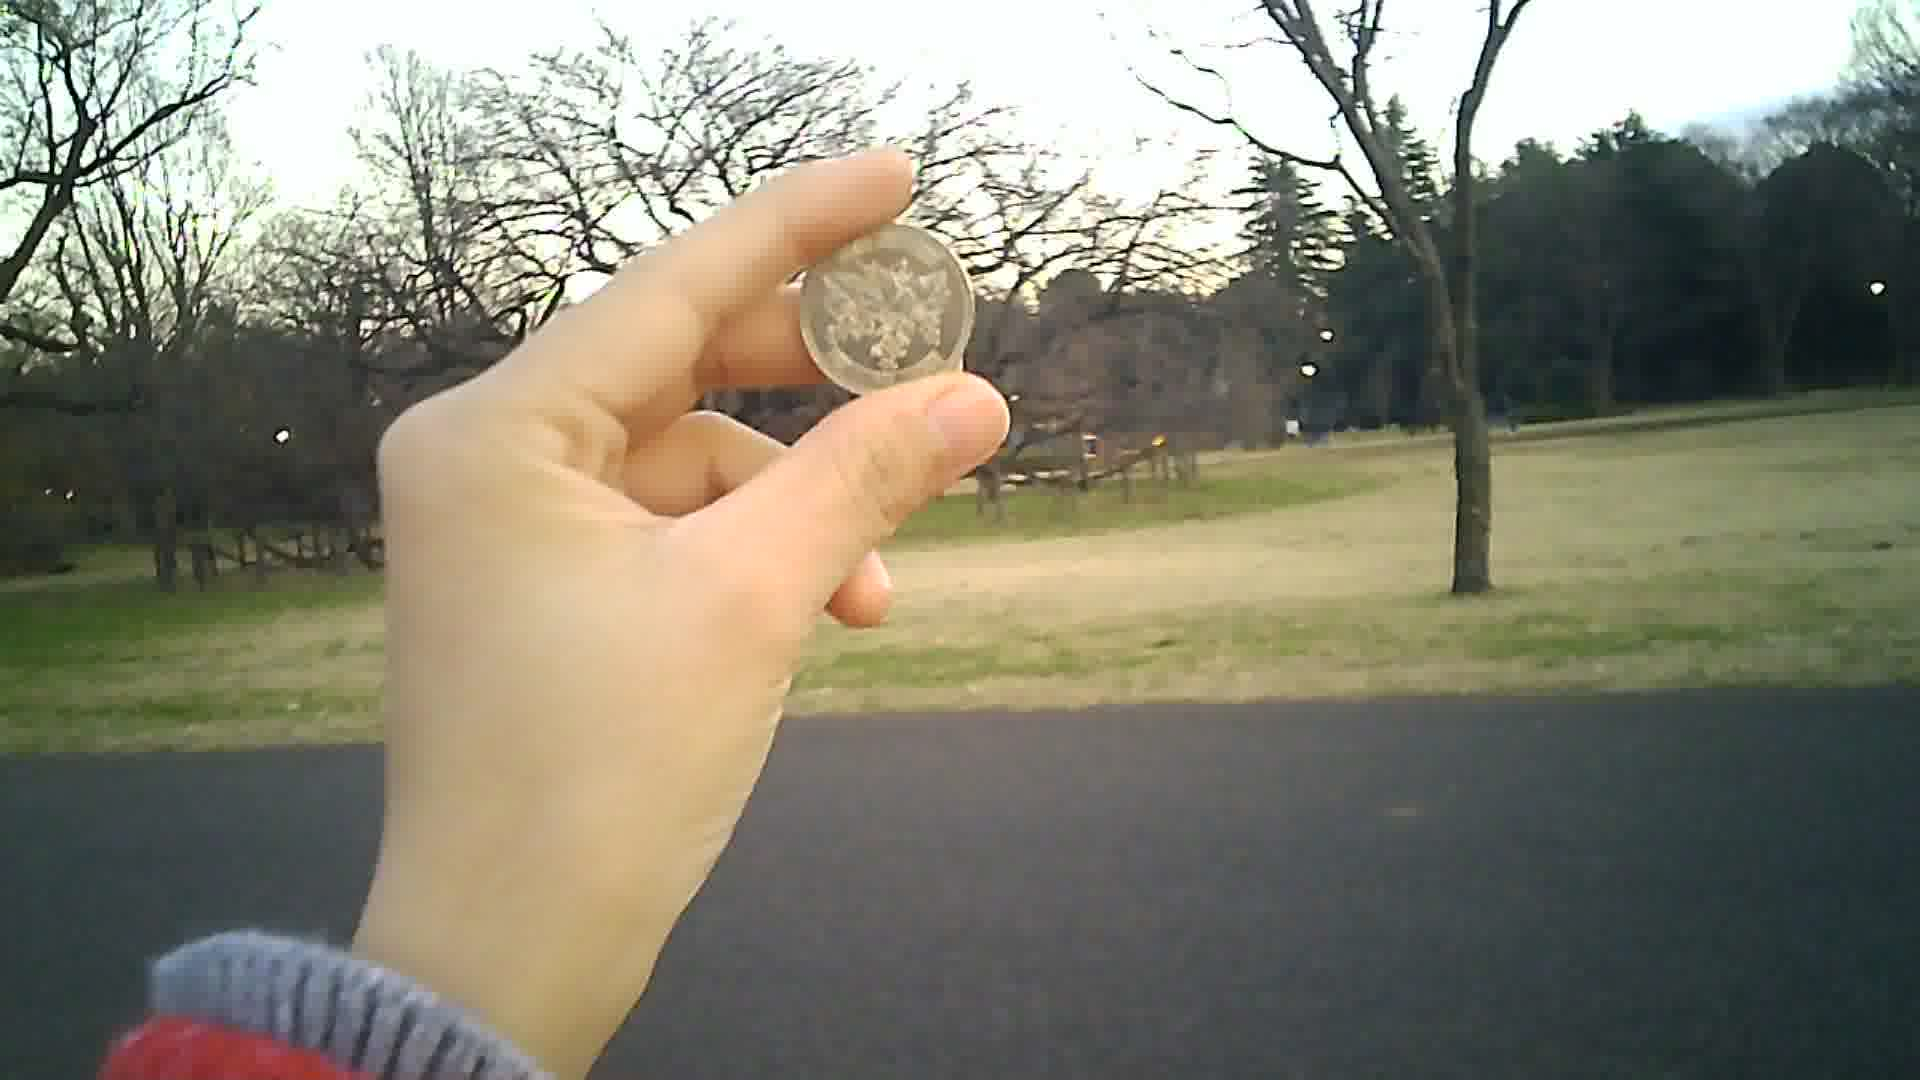500 Yen: (798, 218, 977, 400)
